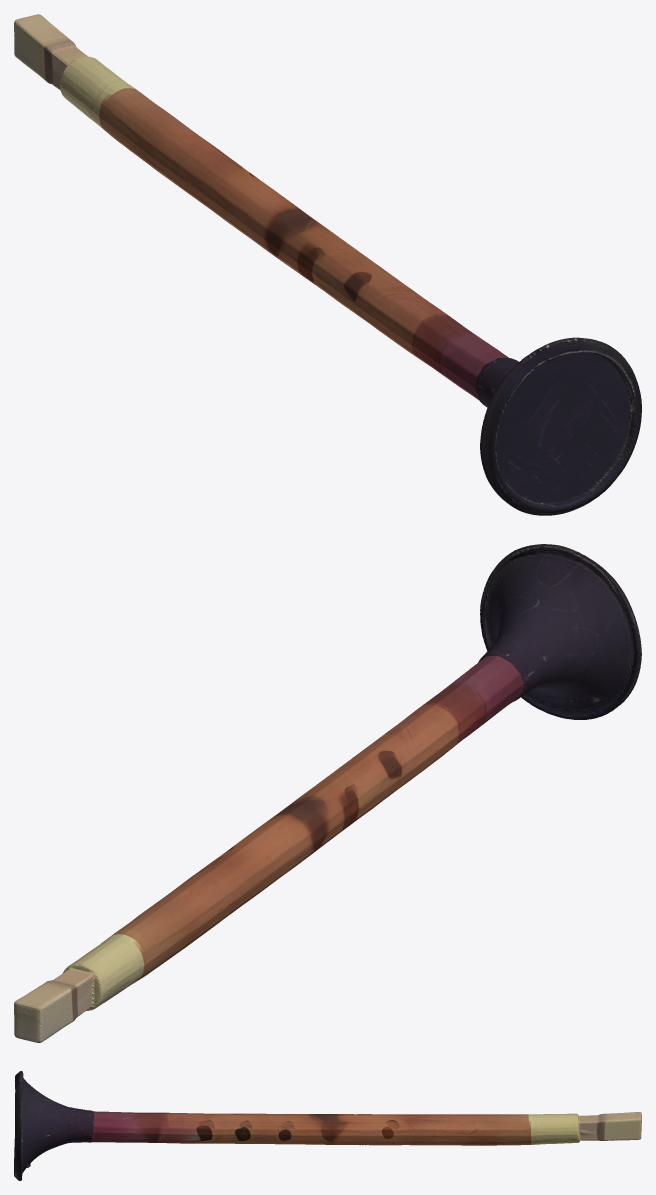
The model's file is houguan.gltf.
3 renders of one model, top to bottom at view 1: azimuth 30°, elevation 25°; view 2: azimuth 150°, elevation 25°; view 3: azimuth 270°, elevation 25°, orthographic. The views are drawn at different scales.
Parts seen in each view (by area): view 1: tripo_node_23e9c92a-23f3-4eb3-ac25-2e409f0d7098; view 2: tripo_node_23e9c92a-23f3-4eb3-ac25-2e409f0d7098; view 3: tripo_node_23e9c92a-23f3-4eb3-ac25-2e409f0d7098.
Part boxes in pixels (x1,y1,x2,y2): tripo_node_23e9c92a-23f3-4eb3-ac25-2e409f0d7098: [14, 14, 641, 515]; tripo_node_23e9c92a-23f3-4eb3-ac25-2e409f0d7098: [14, 544, 641, 1042]; tripo_node_23e9c92a-23f3-4eb3-ac25-2e409f0d7098: [14, 1071, 641, 1180].
Size of the model in its own units: 18.19 by 18.59 by 106.
1 material, 1 textured.
